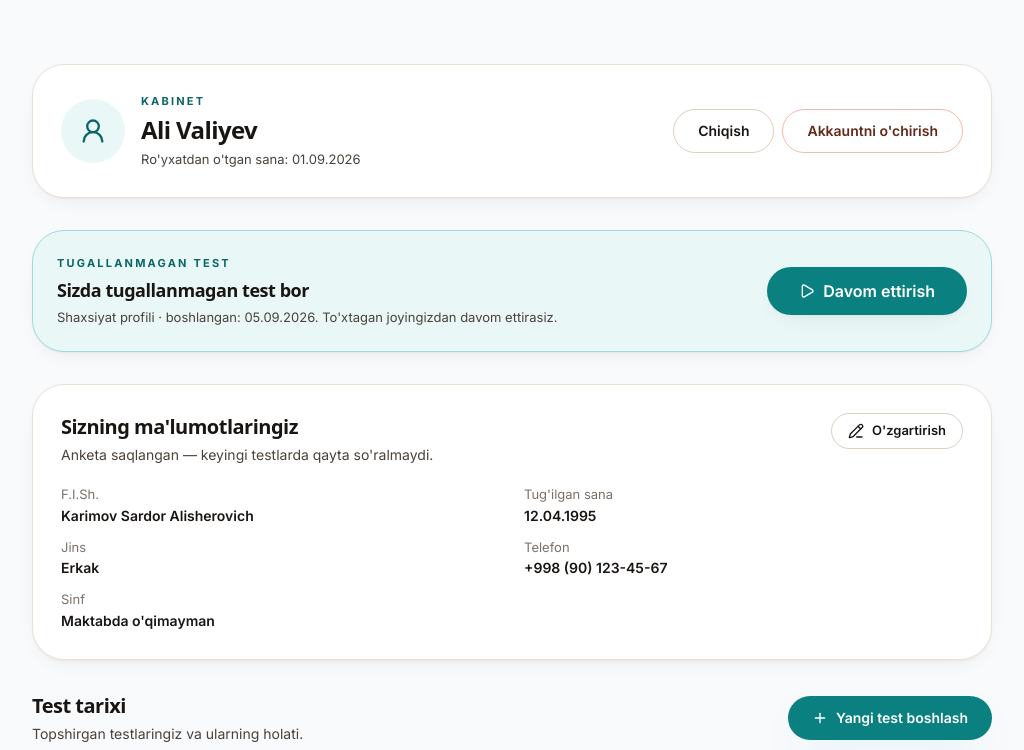
Test: AccountPage › tugallanmagan sessiya › `409 NO_PROGRAM_AVAILABLE` uchun xarita matni ko'rsatiladi, sahifa o'zgarmaydi
Click the button "Davom ettirish" at coordinates (867, 291), box [767,267,967,315]
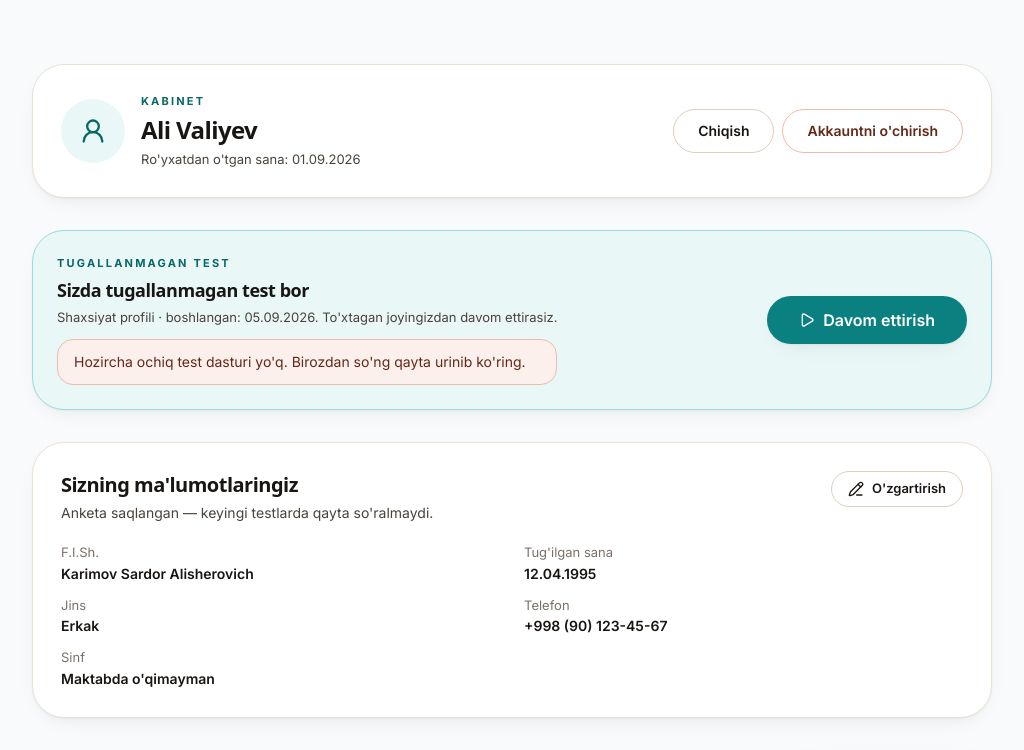
Expected: the message shows "ochiq test dasturi yo'q", [74,353,526,370]
